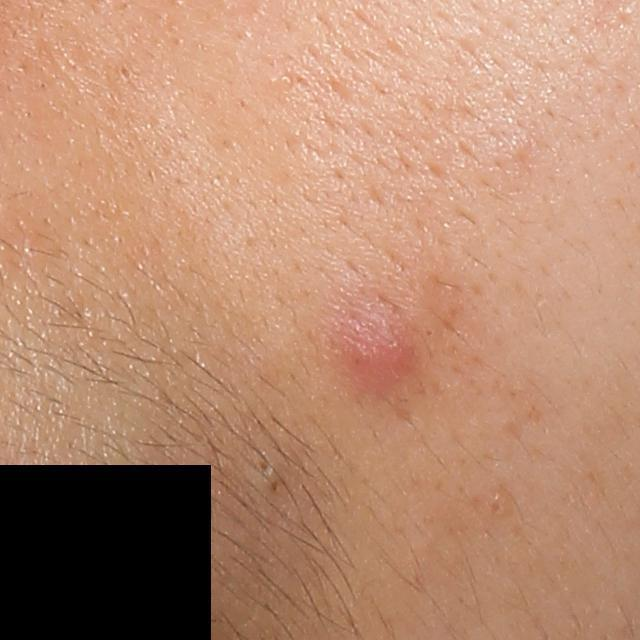comedo: (478, 492, 511, 523), (115, 64, 132, 84)
papule: (336, 309, 426, 393)
